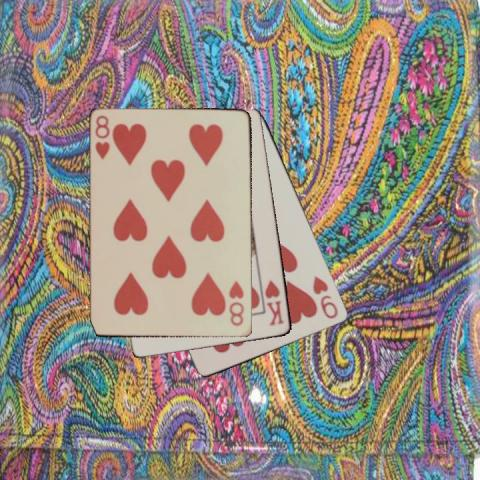8h: (226, 279, 246, 328), (92, 113, 111, 161)
9h: (310, 272, 340, 320)
Kh: (262, 278, 285, 328)
